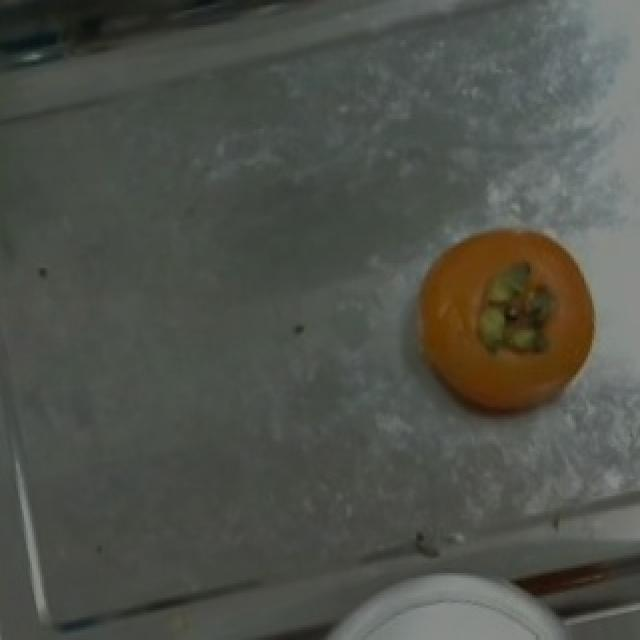Fruit: (390, 208, 620, 430), (336, 556, 568, 638)
